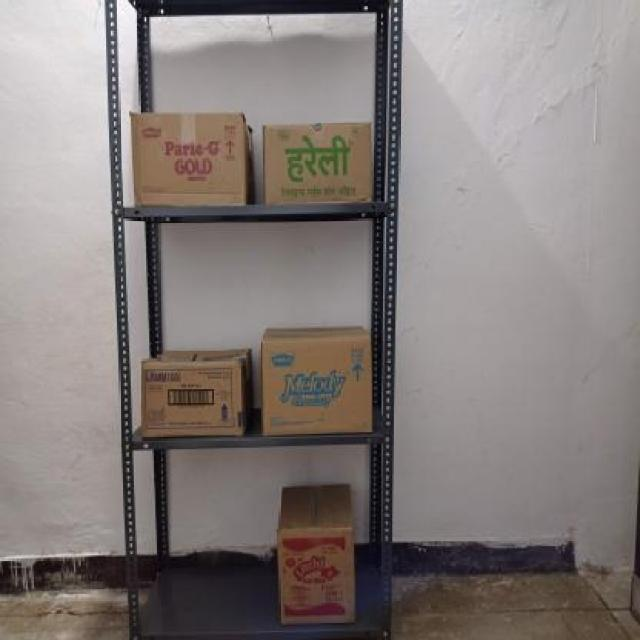box: (129, 110, 249, 206), (259, 336, 372, 436), (263, 124, 374, 203), (140, 356, 242, 438), (278, 526, 354, 628)
